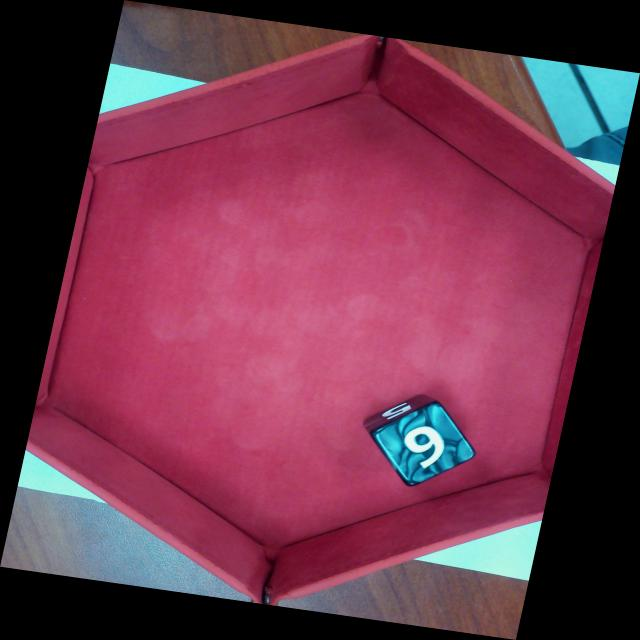dice: (371, 401, 476, 487)
